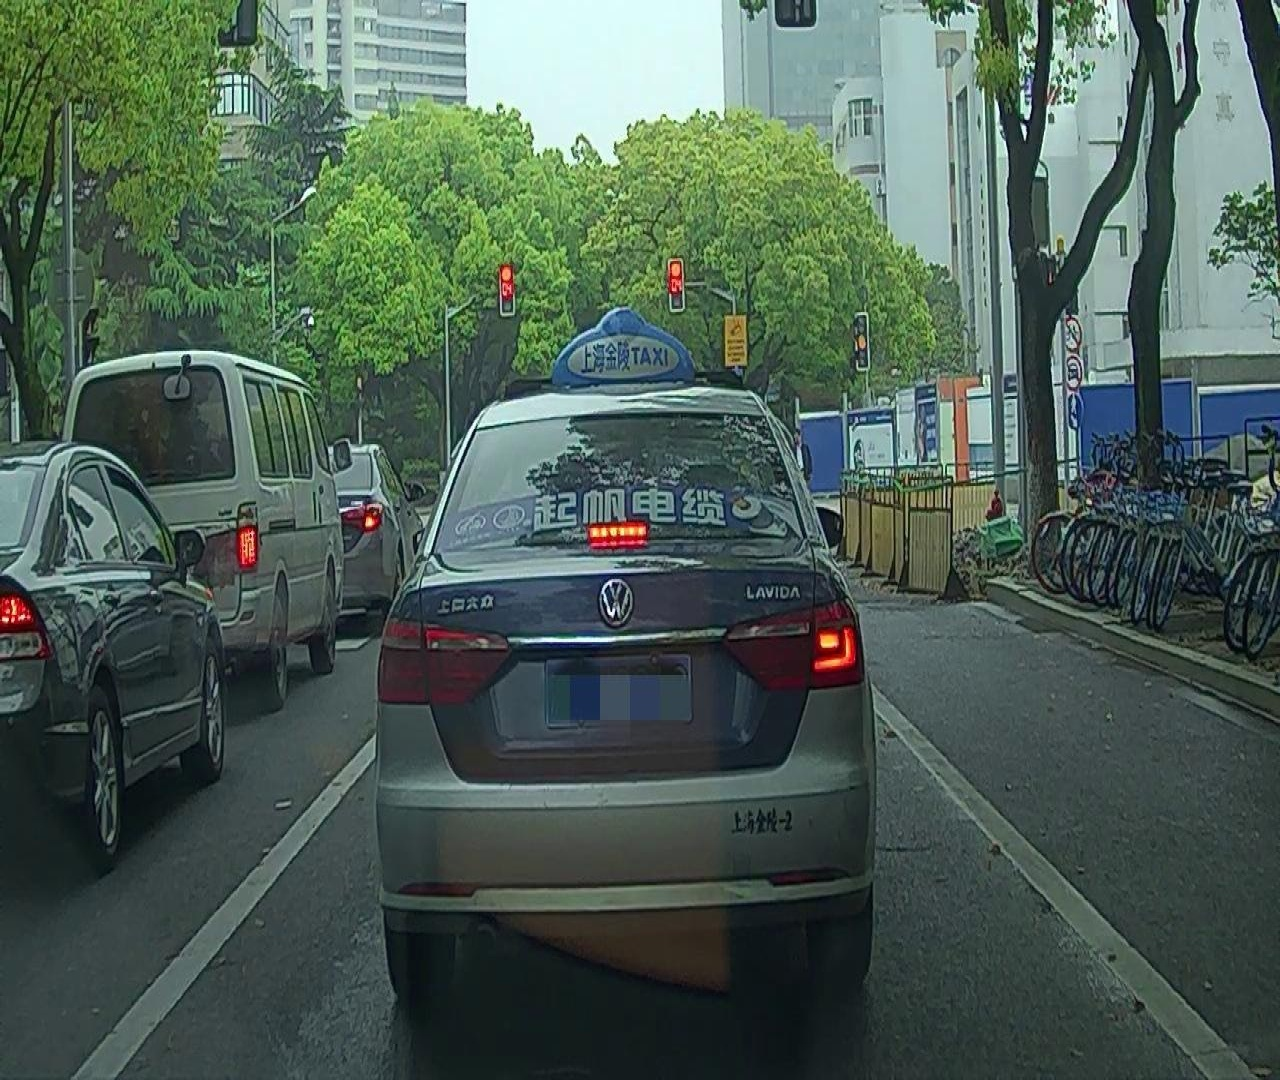red: (501, 262, 516, 316), (669, 259, 684, 312)
yellow: (856, 309, 868, 367)
